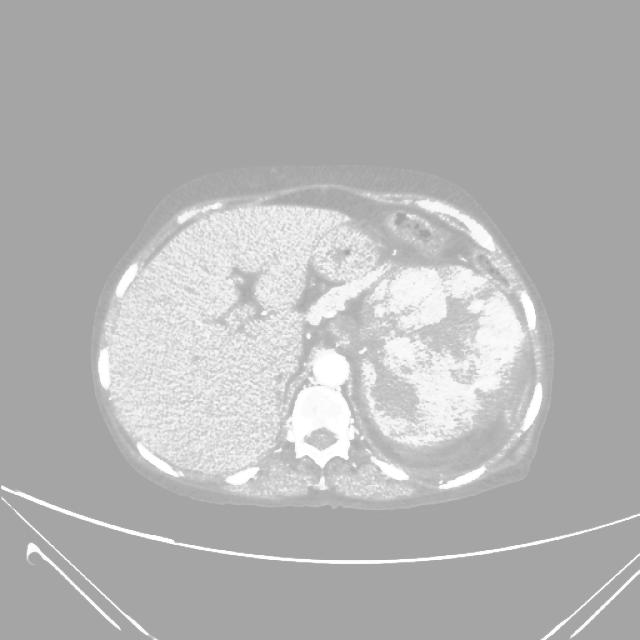TUMOR: (355, 257, 561, 479)
